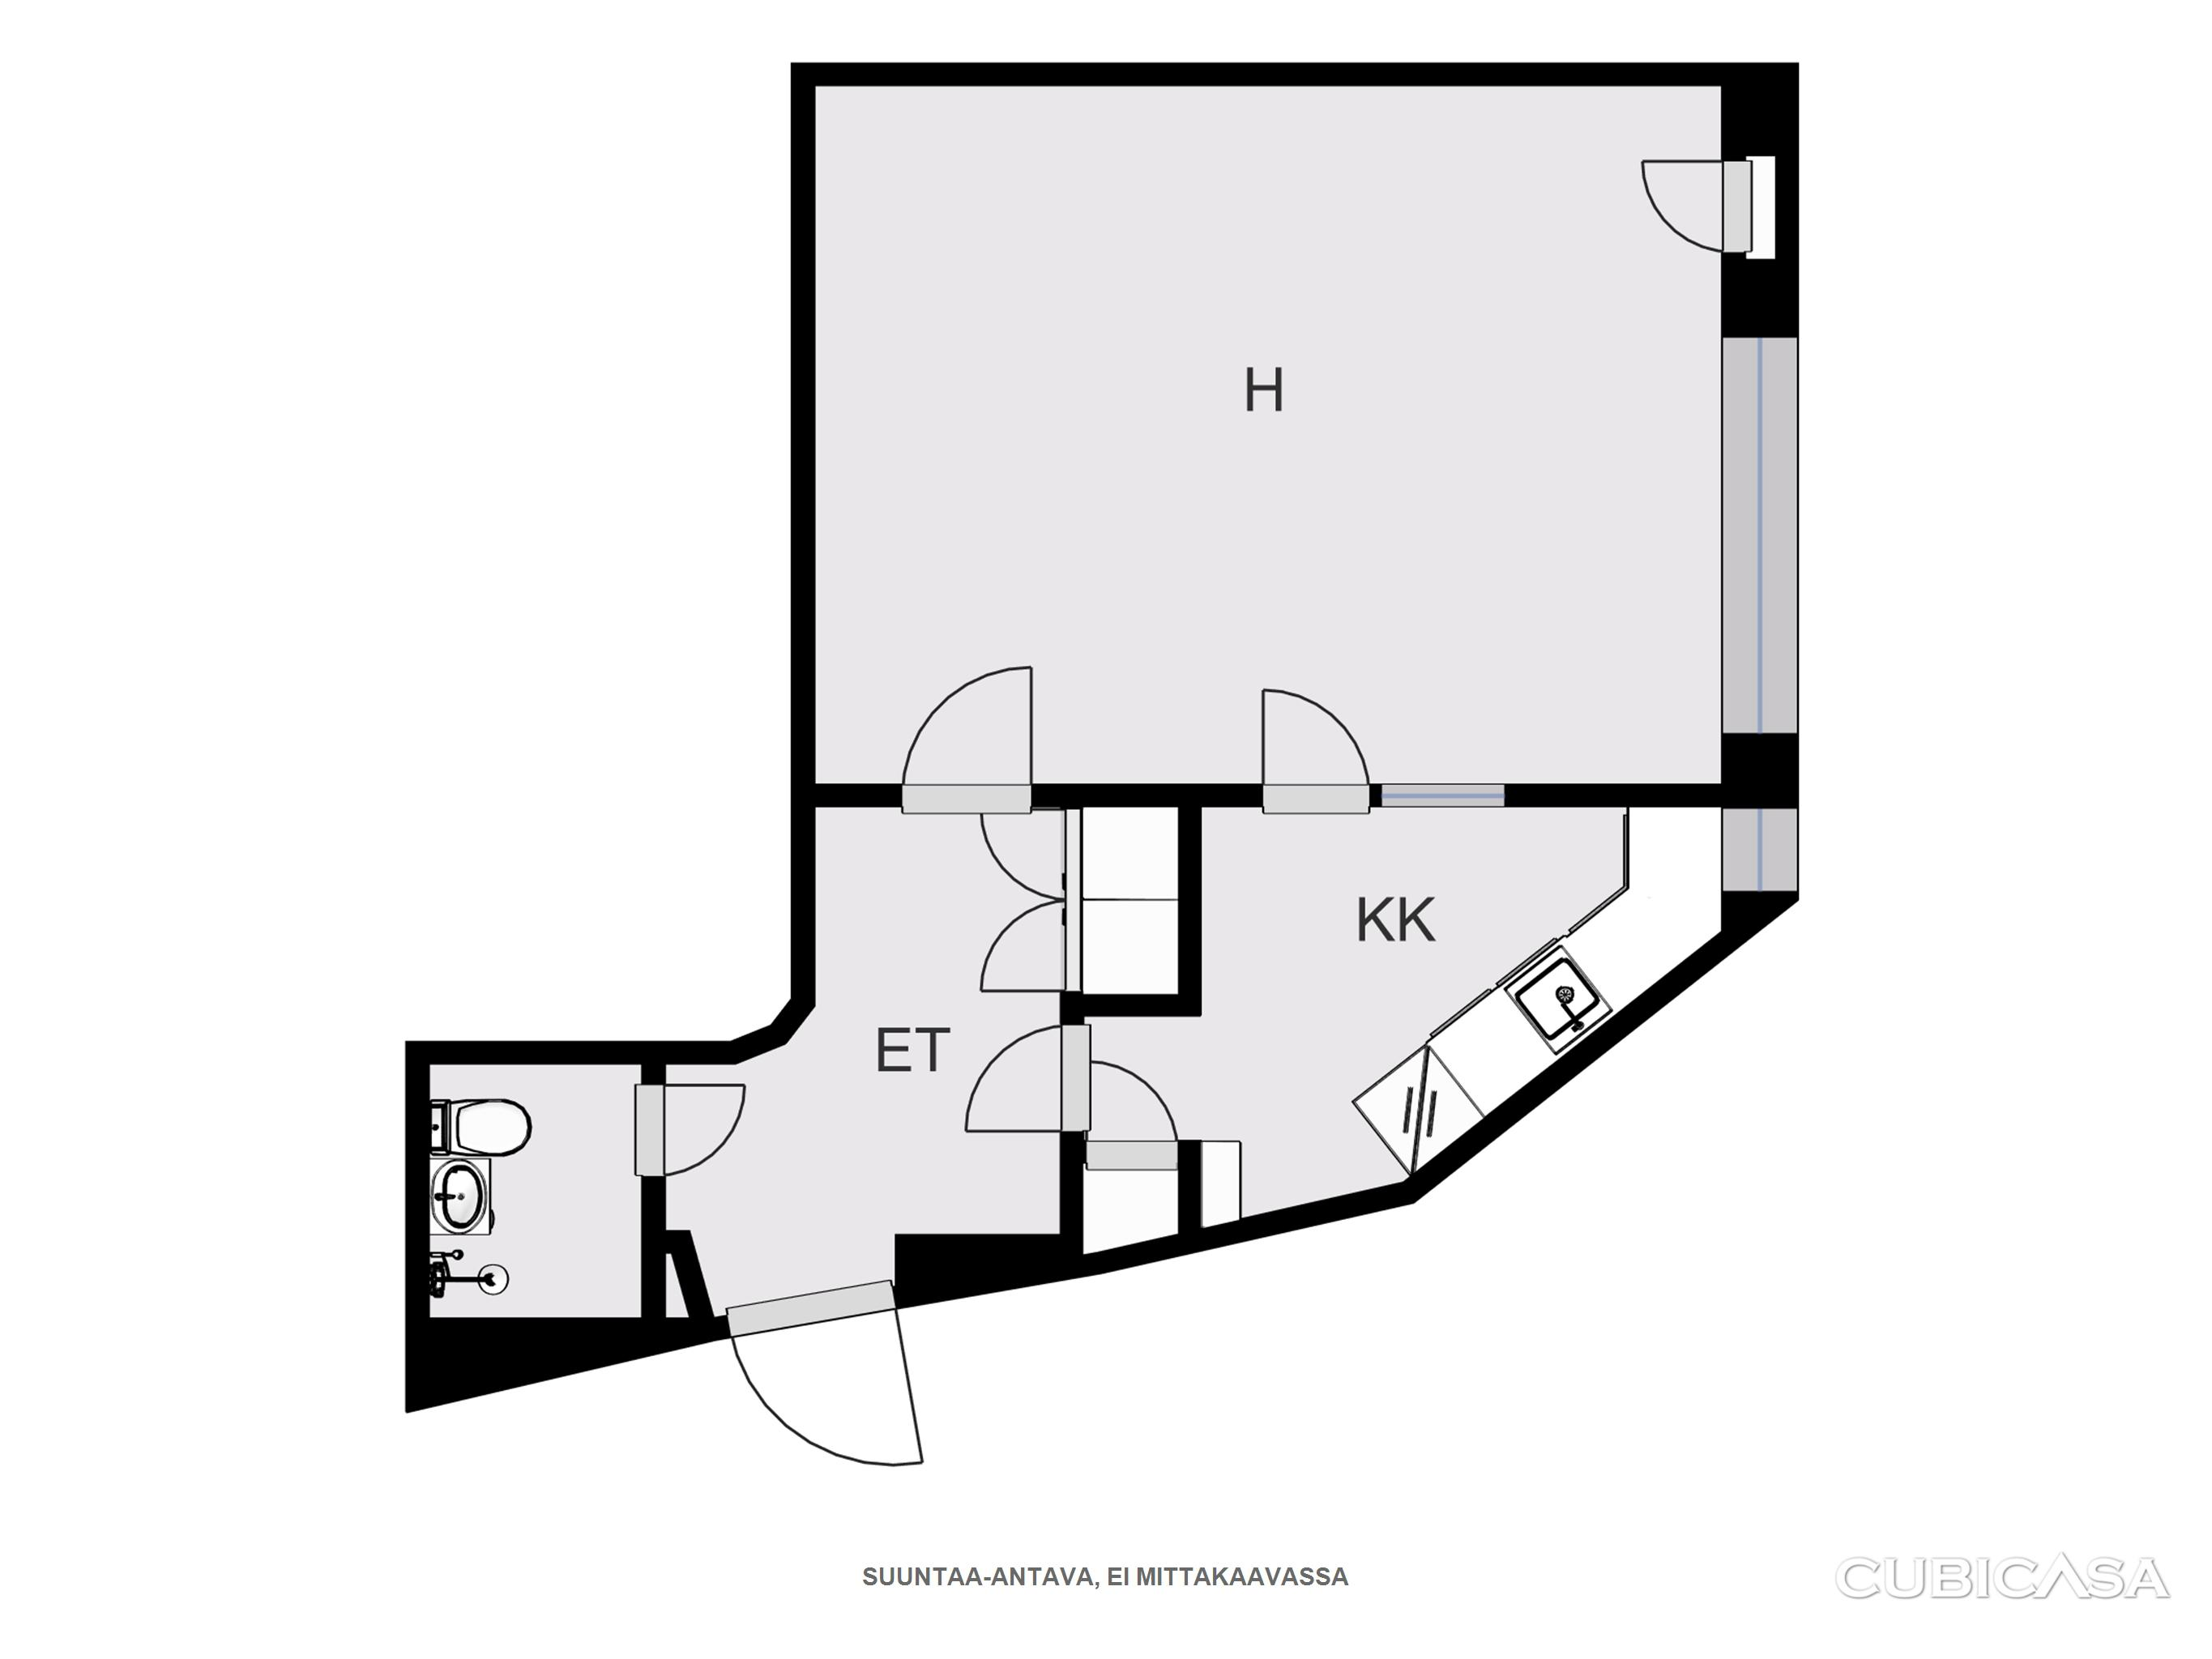bathroom: (431, 1056, 640, 1317)
door: (716, 1277, 943, 1474), (889, 657, 1046, 828), (945, 1012, 1100, 1141), (1250, 683, 1379, 824), (1630, 150, 1781, 268), (624, 1080, 762, 1183), (1079, 1054, 1185, 1180), (966, 892, 1088, 997), (969, 800, 1081, 899)
perimeter: (397, 58, 1806, 1398)
window: (1701, 305, 1822, 748), (1713, 791, 1809, 911), (1367, 769, 1523, 824)
